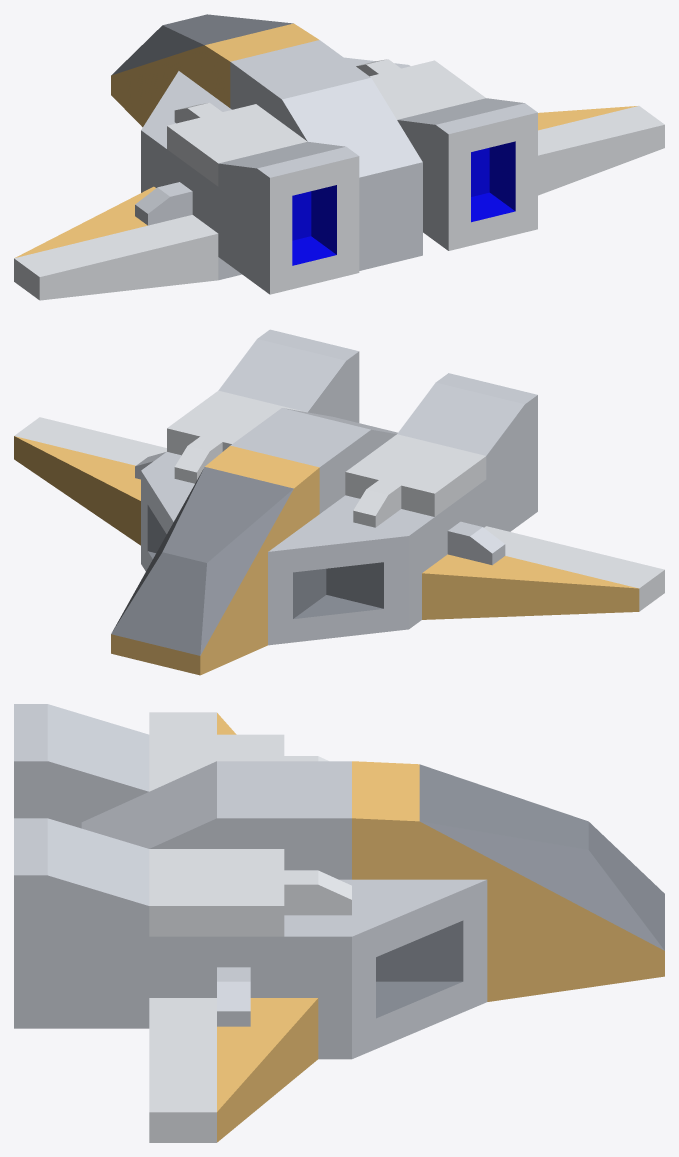
Rendered from craft_speederC_scaled.glb.
The picture shows the model from 3 angles, top to bottom: view 1: azimuth 30°, elevation 25°; view 2: azimuth 150°, elevation 25°; view 3: azimuth 270°, elevation 25°; orthographic projection. The views are drawn at different scales.
Visible parts, largest first — view 1: craft_speederC; view 2: craft_speederC; view 3: craft_speederC.
Part boxes in pixels (left/top/right/bottom): craft_speederC: left=14, top=14, right=664, bottom=300; craft_speederC: left=14, top=329, right=664, bottom=675; craft_speederC: left=14, top=704, right=664, bottom=1142.
Size of the model in its own units: 28 by 6 by 19.26.
